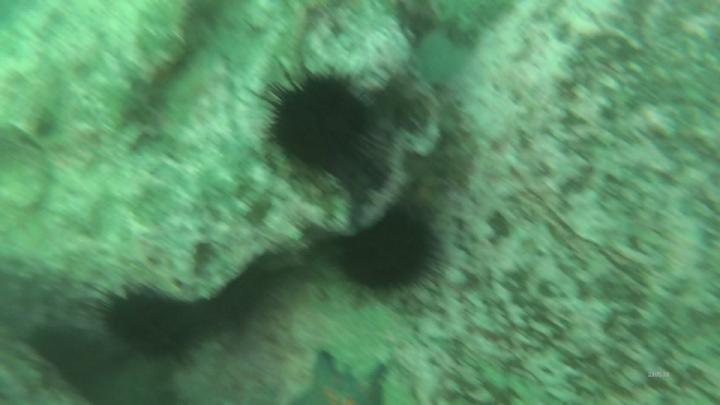echinus: (267, 75, 376, 180), (333, 205, 439, 297), (109, 287, 215, 367), (29, 323, 121, 403)
starfish: (297, 346, 391, 405)
